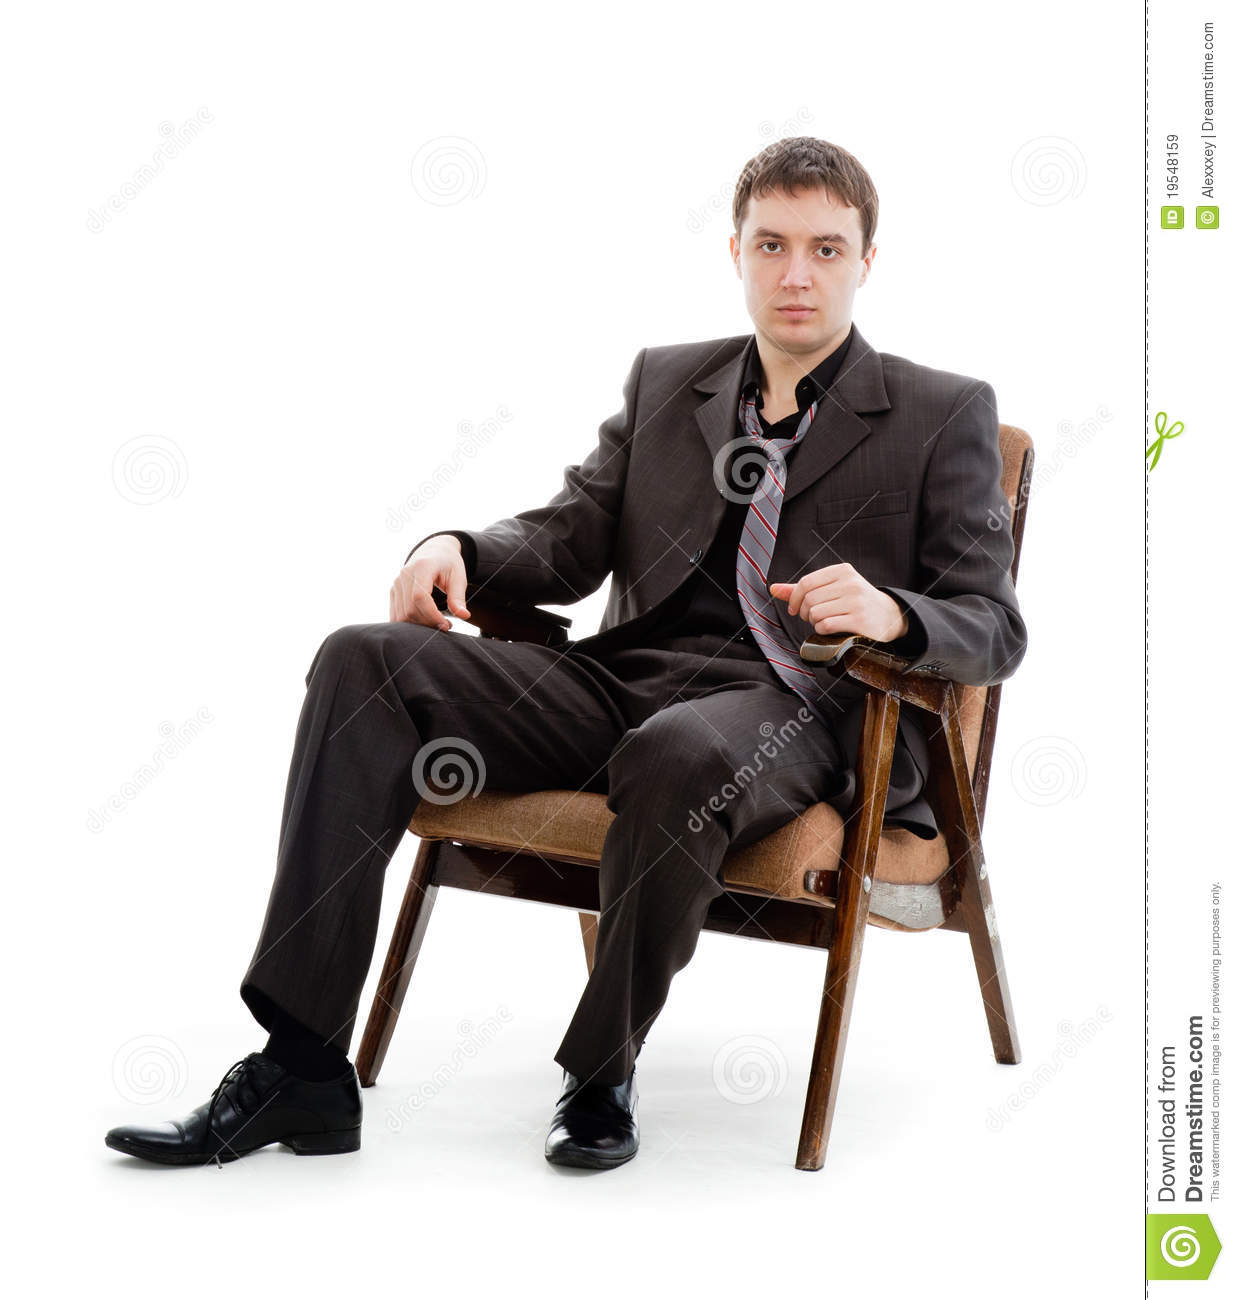chairs: (352, 425, 1042, 1175)
